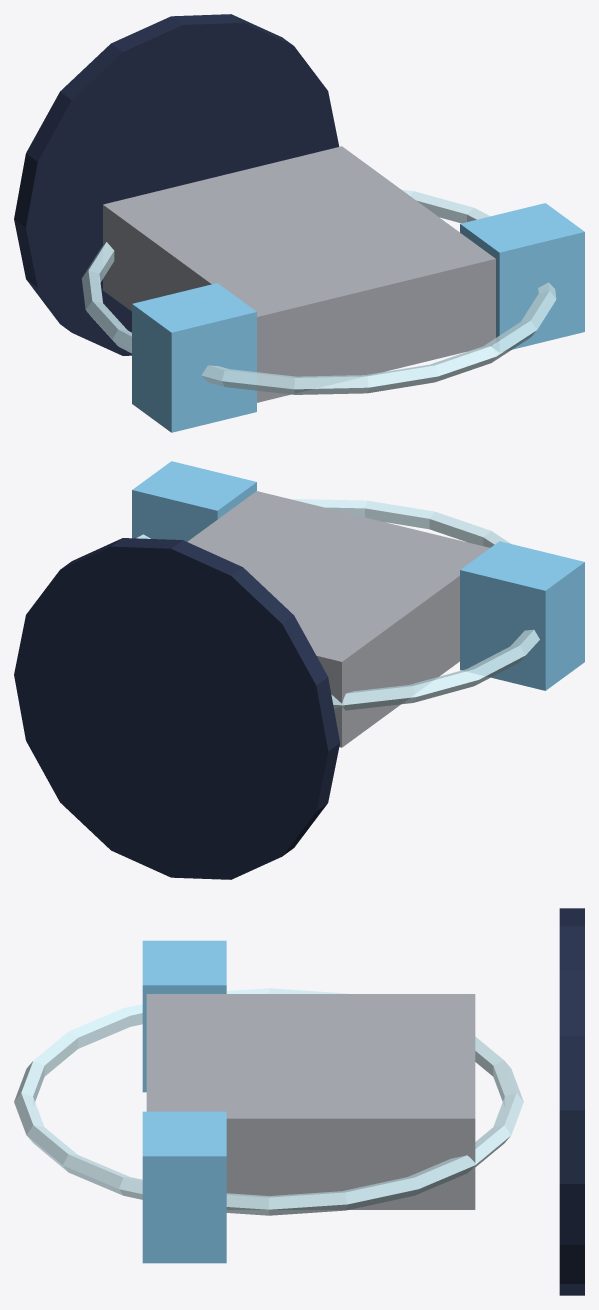
File: 05_high_tier_magic_armor_aura.glb
3 views of the same model, one above another, from view 1: azimuth 30°, elevation 25°; view 2: azimuth 150°, elevation 25°; view 3: azimuth 270°, elevation 25° (orthographic). The views are drawn at different scales.
Parts seen in each view (by area): view 1: chest_plate_upgrade, armor_display_base, left_pauldron_upgrade, right_pauldron_upgrade, armor_barrier_ring; view 2: armor_display_base, chest_plate_upgrade, left_pauldron_upgrade, armor_barrier_ring, right_pauldron_upgrade; view 3: chest_plate_upgrade, armor_barrier_ring, right_pauldron_upgrade, armor_display_base, left_pauldron_upgrade.
Boxes of the visible parts, <box> form: chest_plate_upgrade: <box>103,146,495,402</box>; armor_display_base: <box>14,14,339,355</box>; left_pauldron_upgrade: <box>132,283,256,432</box>; right_pauldron_upgrade: <box>460,203,584,351</box>; armor_barrier_ring: <box>81,189,556,394</box>; armor_display_base: <box>14,538,339,879</box>; chest_plate_upgrade: <box>187,491,489,747</box>; left_pauldron_upgrade: <box>460,541,584,690</box>; armor_barrier_ring: <box>136,499,539,710</box>; right_pauldron_upgrade: <box>132,461,256,541</box>; chest_plate_upgrade: <box>146,994,475,1209</box>; armor_barrier_ring: <box>14,988,523,1215</box>; right_pauldron_upgrade: <box>142,1111,226,1263</box>; armor_display_base: <box>559,908,584,1295</box>; left_pauldron_upgrade: <box>142,940,226,1092</box>.
Size of the model in its own units: 1.21 by 0.92 by 1.36.
